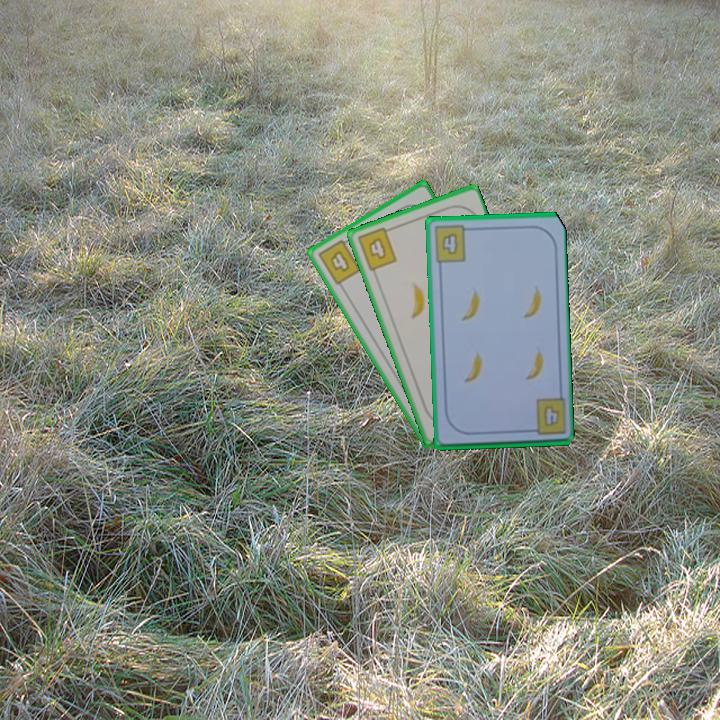4b: (314, 234, 364, 288), (353, 223, 400, 274), (430, 222, 474, 265), (540, 402, 562, 429)
